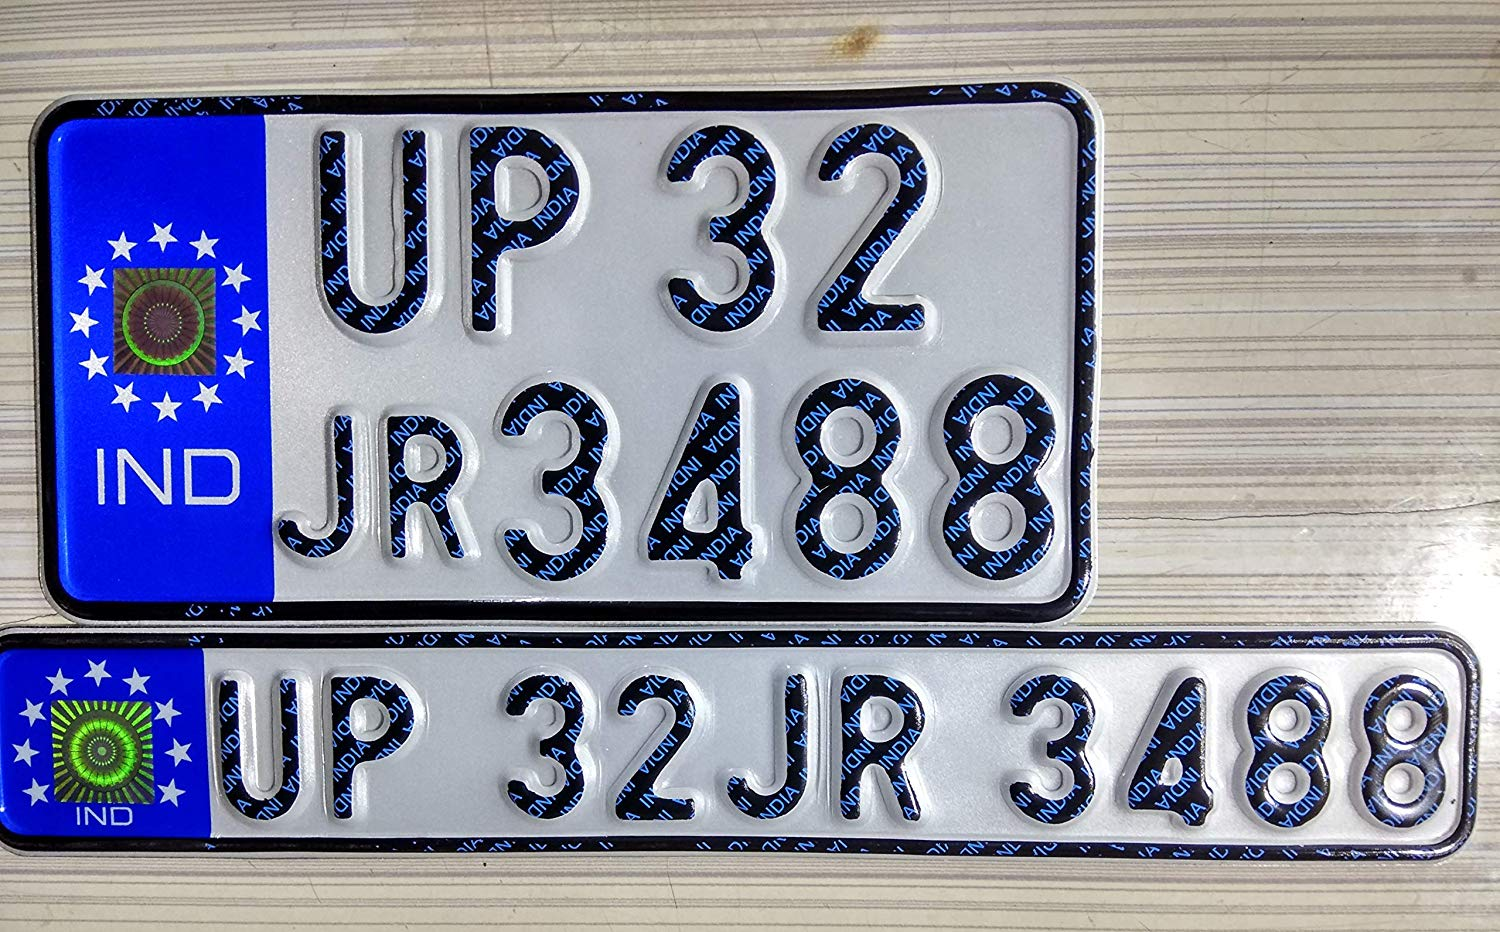number_plate: (27, 87, 1116, 630), (3, 619, 1482, 867)
